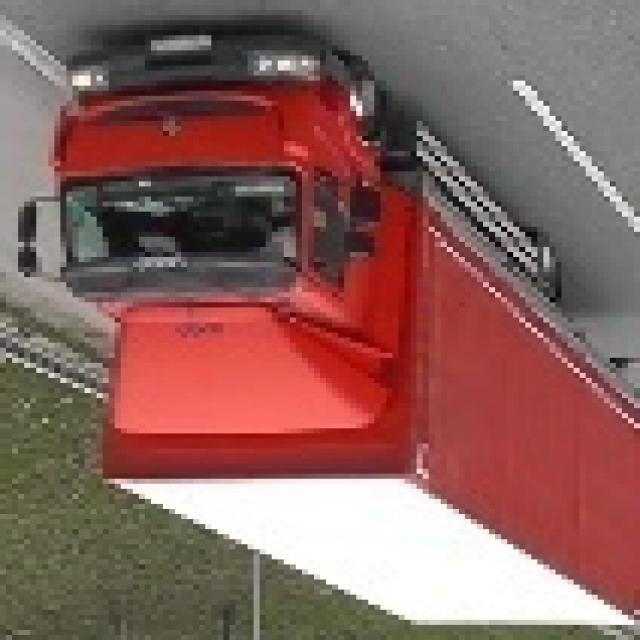truck: (24, 35, 640, 630)
